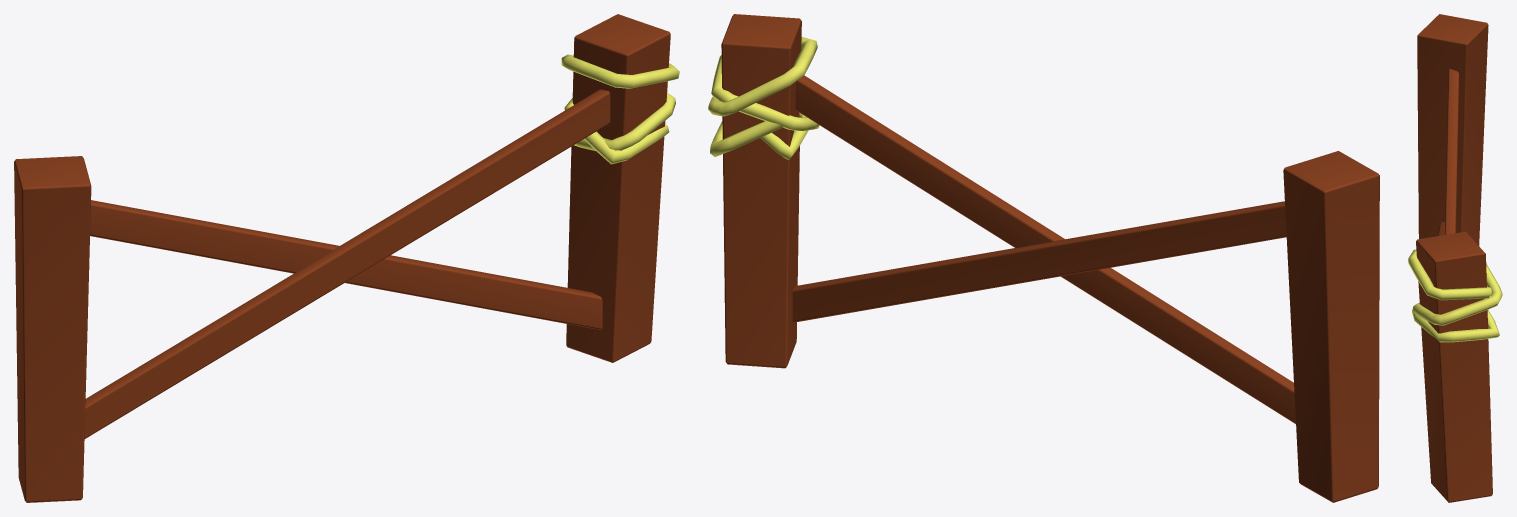
Rendered from SP_Arena_Support.fbx.
The picture shows the model from 3 angles, left to right: view 1: azimuth 30°, elevation 25°; view 2: azimuth 150°, elevation 25°; view 3: azimuth 270°, elevation 25°; orthographic projection. The views are drawn at different scales.
Parts seen in each view (by area): view 1: SP_Arena_Support; view 2: SP_Arena_Support; view 3: SP_Arena_Support.
Boxes of the visible parts, x1,y1,x2,y2 form: SP_Arena_Support: [14, 14, 679, 502]; SP_Arena_Support: [708, 14, 1379, 502]; SP_Arena_Support: [1408, 14, 1502, 502].
Bounding box in the file's own units: 6.24 × 2.87 × 0.9964.
